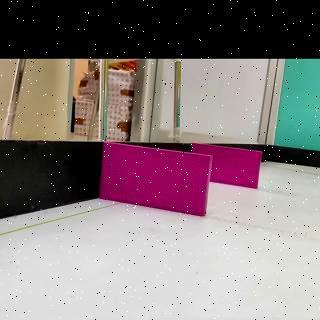xparking: (99, 142, 211, 216), (218, 150, 258, 186)
